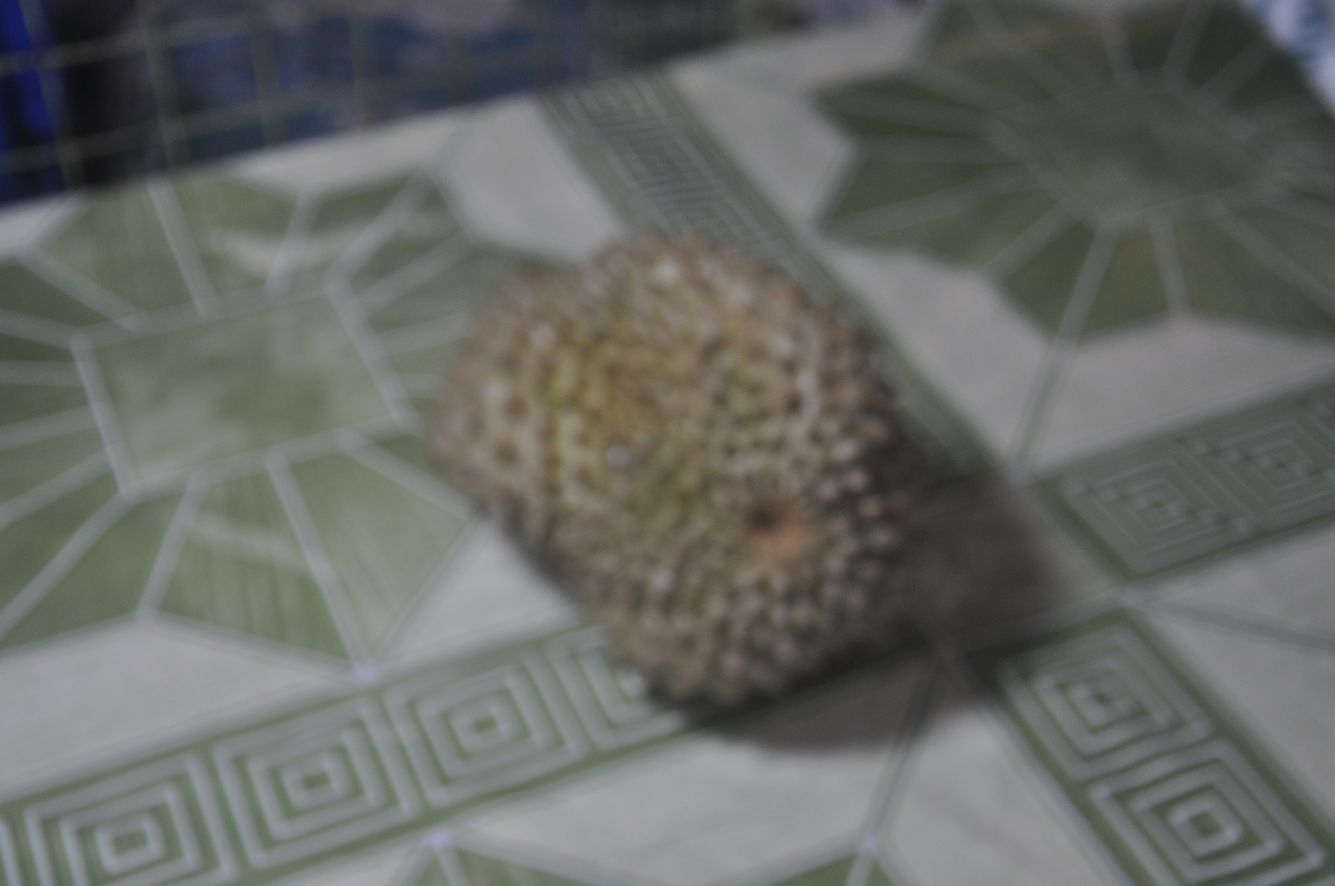mature: (431, 237, 925, 704)
